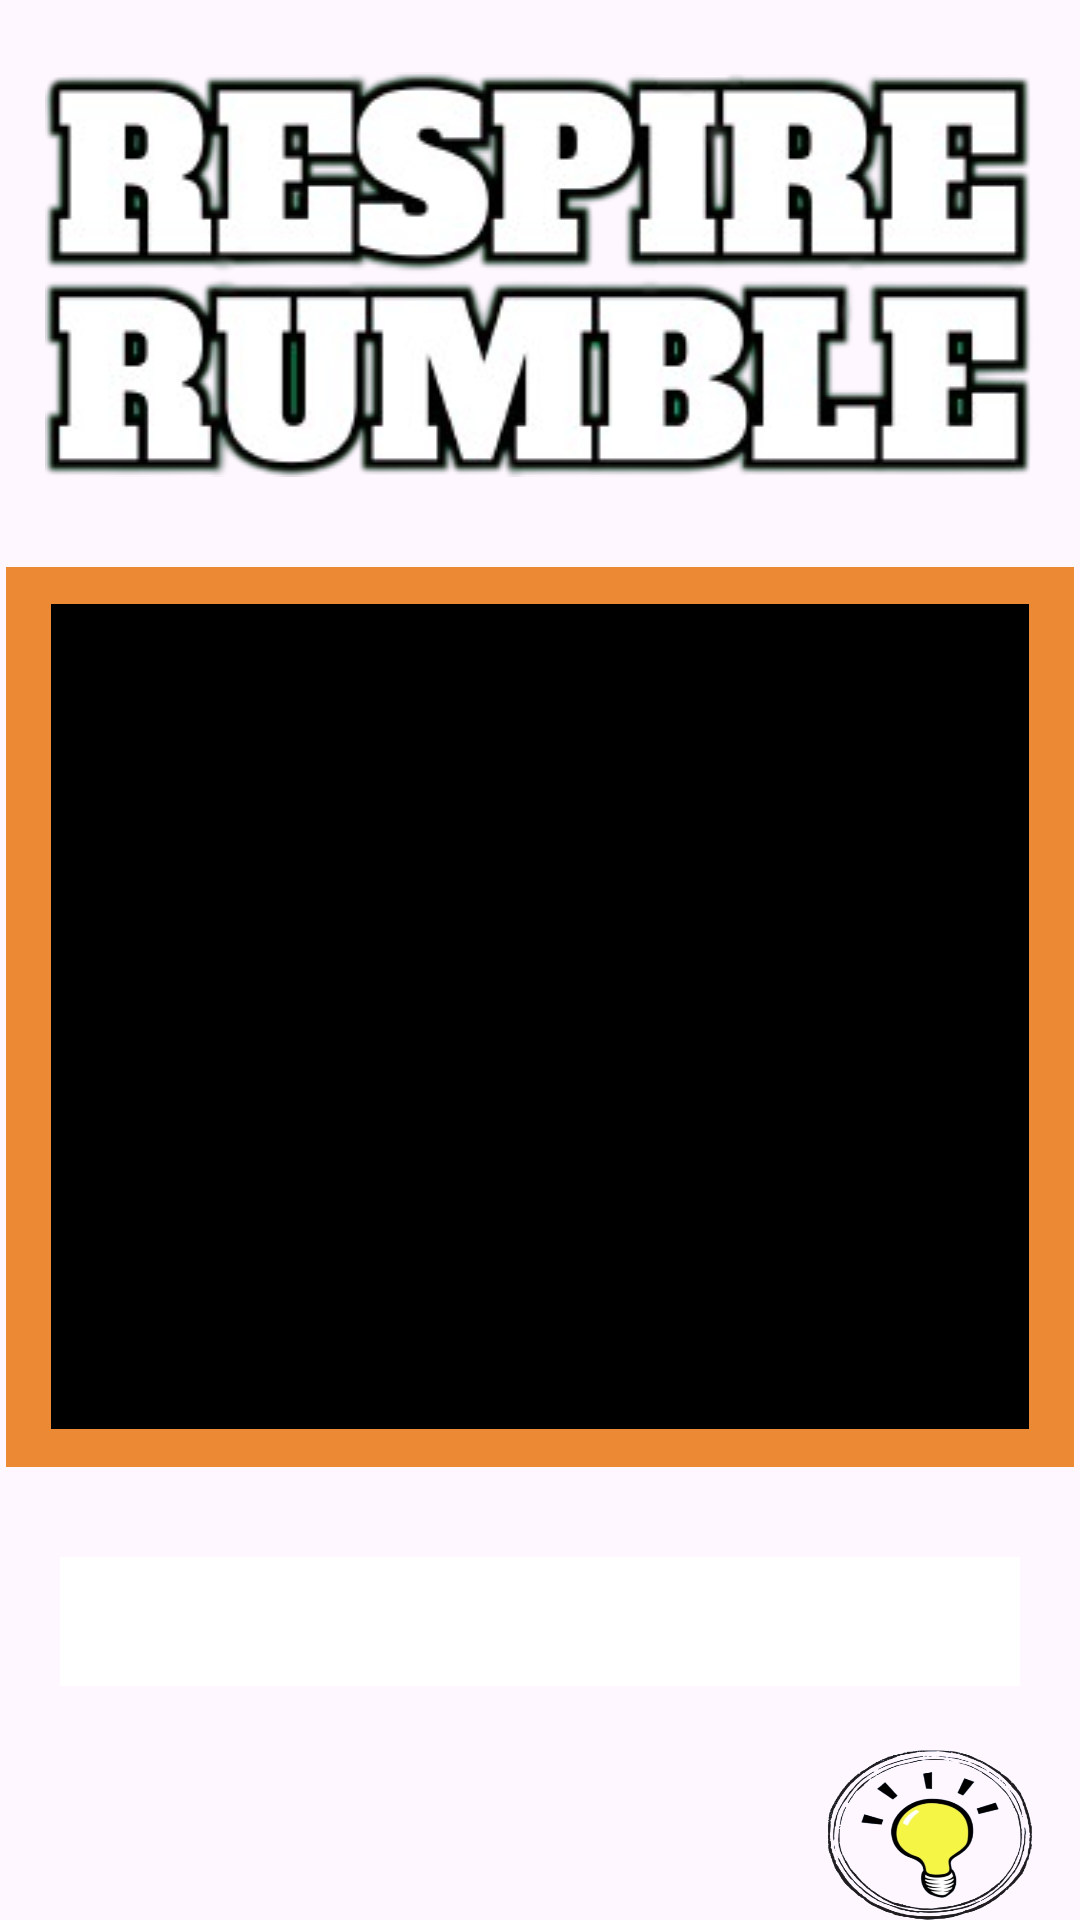

Icon click points for this 1080 x 1920 phone screenshot, format point (x, y):
bulb: point (930, 1835)
